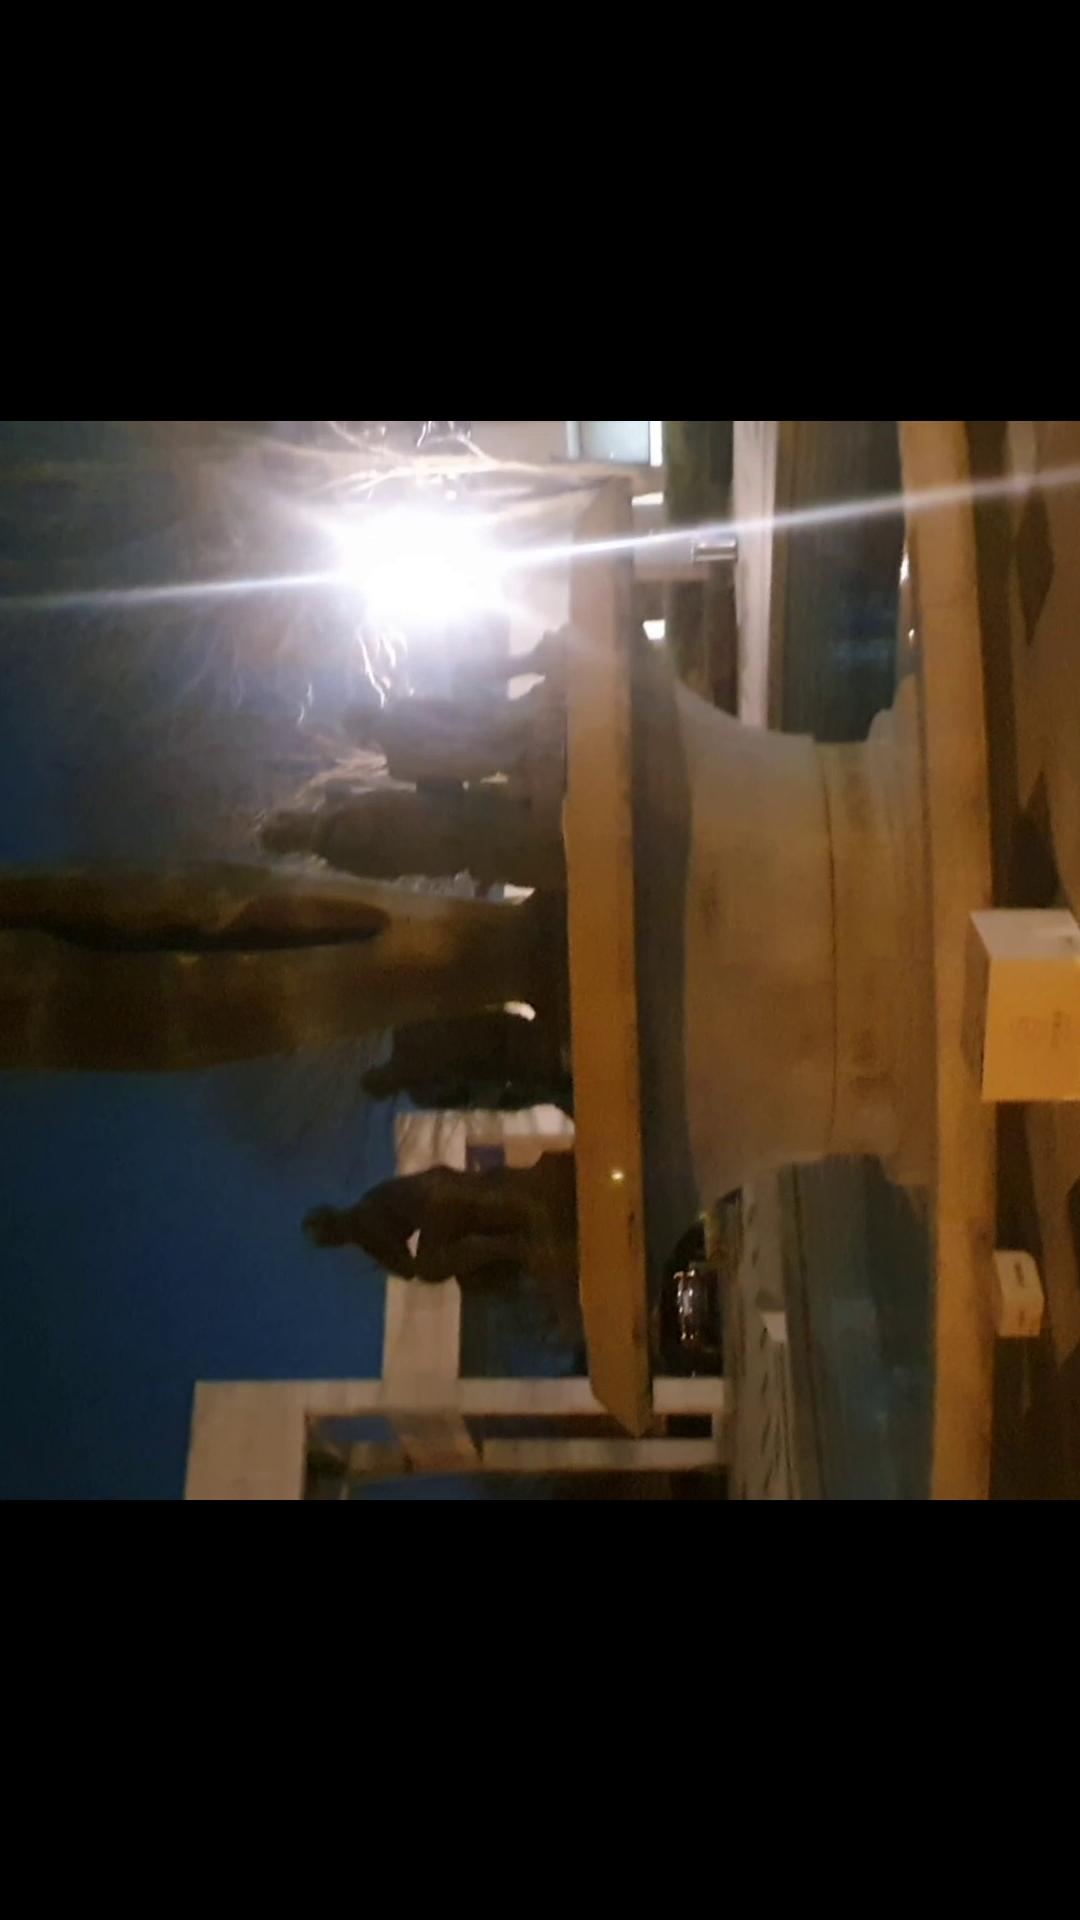Box: (949, 901, 1080, 1129), (988, 1244, 1044, 1357)
